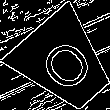O_SE: (31, 30, 98, 97)
